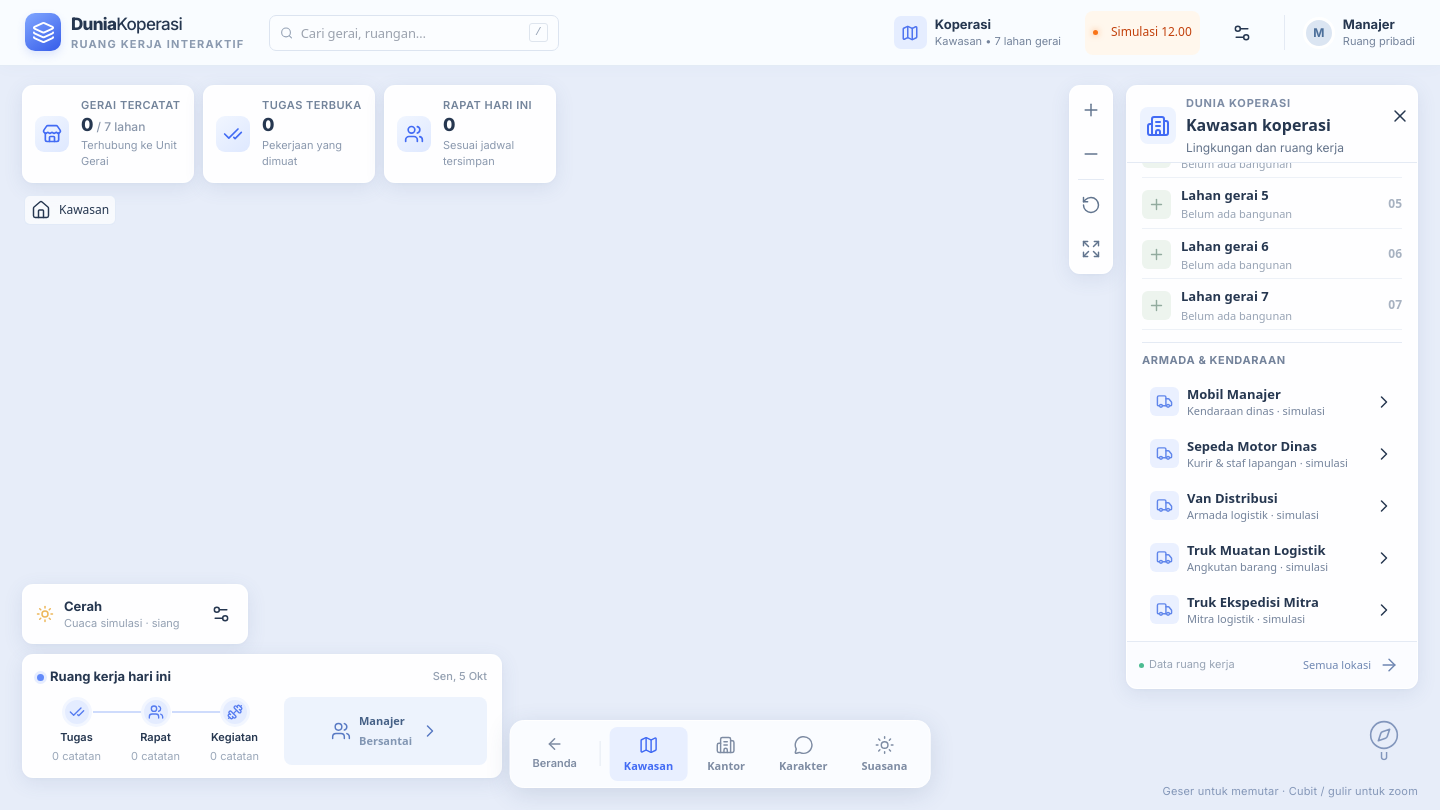
kendaraan suasana menampilkan kartu dengan status simulasi
(page scrolled)
Click the button "Mobil Manajer Kendaraan dinas · simulasi": (1272, 402) [1142, 378, 1402, 426]
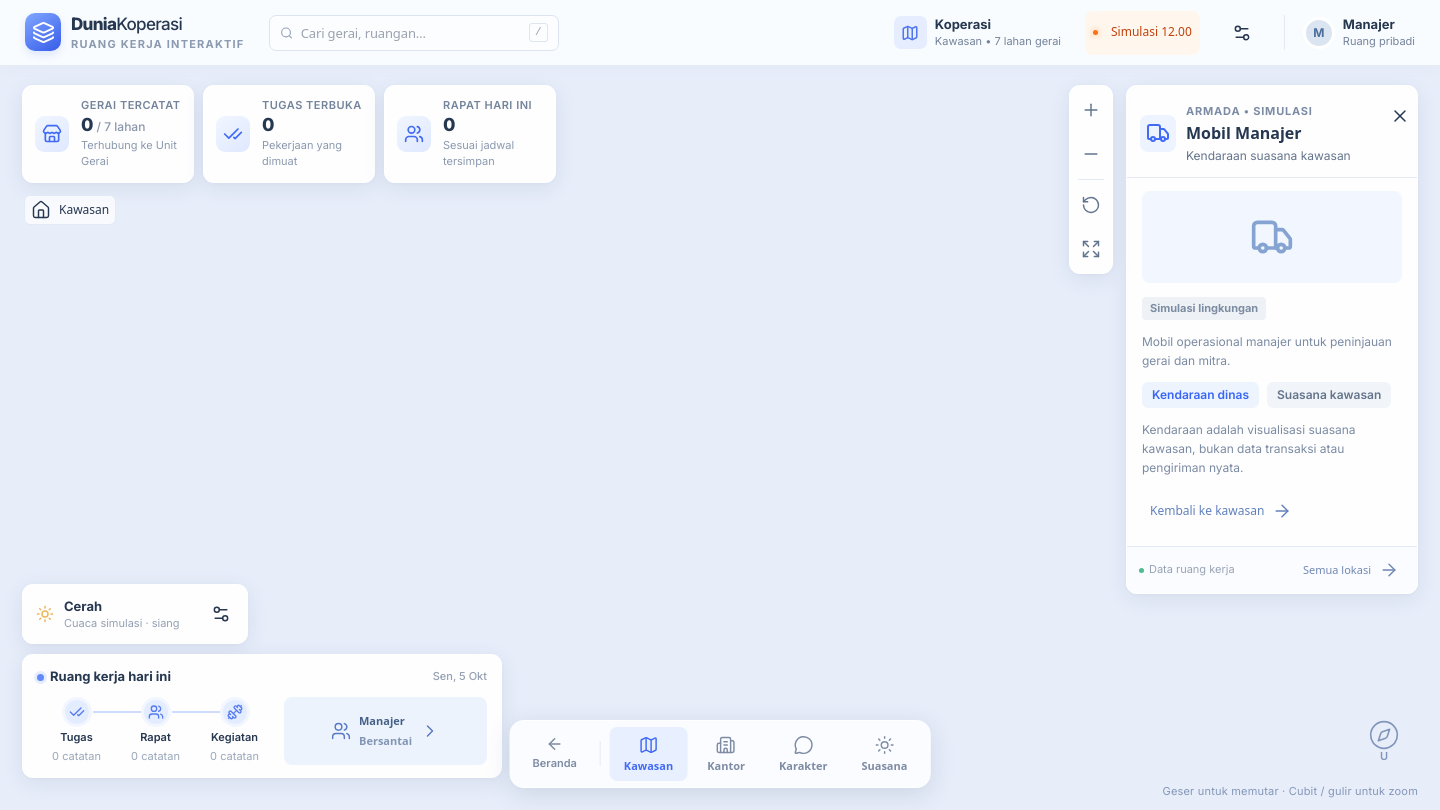
Check: the heading "Mobil Manajer" is shown, box [1186, 122, 1302, 144]
Check: the text "Simulasi lingkungan" is shown, box [1142, 297, 1266, 320]
Check: the text "Kendaraan adalah visualisasi suasana" is shown, box [1142, 422, 1356, 475]
